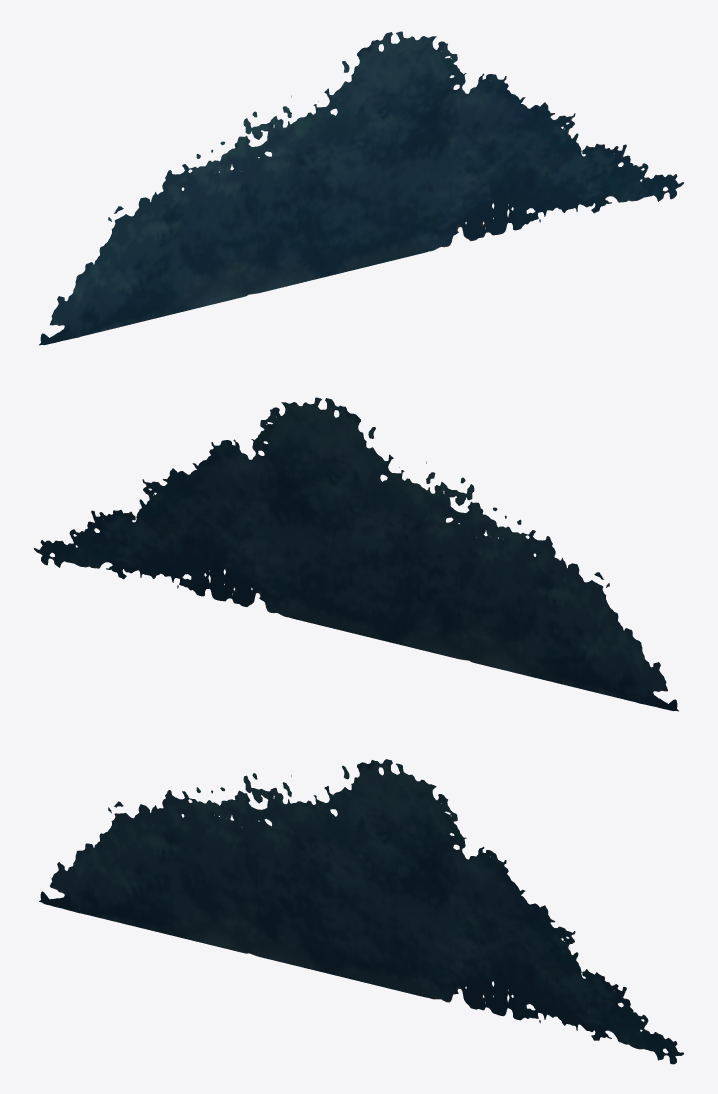
File: HuBian_NightShu3_fbx.FBX
The picture shows the model from 3 angles, top to bottom: view 1: azimuth 30°, elevation 25°; view 2: azimuth 150°, elevation 25°; view 3: azimuth 330°, elevation 25°; orthographic projection.
Parts seen in each view (by area): view 1: Object044; view 2: Object044; view 3: Object044.
Boxes of the visible parts, x1,y1,x2,y2 form: Object044: [39, 31, 684, 345]; Object044: [33, 397, 678, 711]; Object044: [39, 759, 683, 1064].
Bounding box in the file's own units: 5.6 × 1.89 × 4.22e-07.
Materials: 1 (1 with a texture image).
